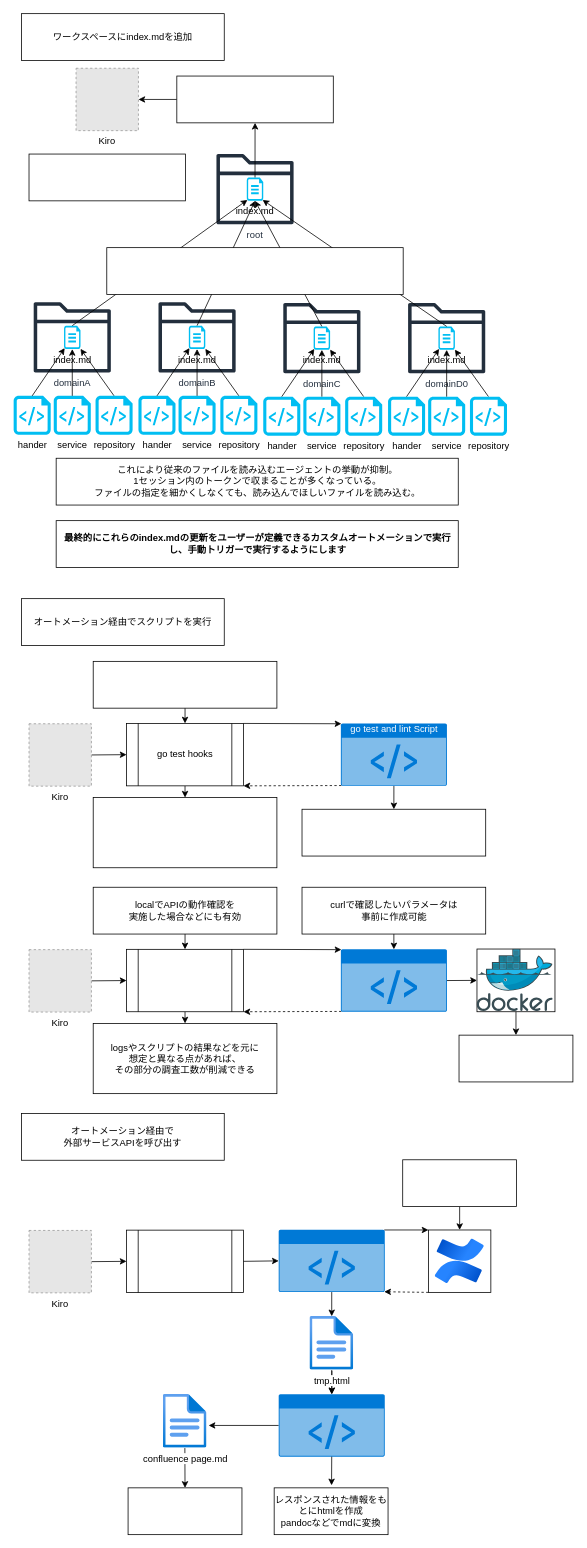
This 587x1548 diagram has some shape labels left out. Grey dashed boxes stand in for pictures. The box of each missing label's shape, as (x1, y1, x2, y2) in pixels:
convert Confluence to md hooks: (126, 1229, 244, 1293)
curl exec hooks: (126, 949, 244, 1012)
curl exec Script: (340, 949, 447, 1011)
get confluence page Script: (278, 1229, 384, 1292)
html to md Script: (278, 1394, 384, 1456)
KiroはAWSが提供するIDE型AIエージェントです。: (28, 153, 185, 201)
logsなどでコンテナ内の エラーを取得する: (458, 1034, 573, 1082)
rootディレクトリのindexをルールとして常時適用する: (176, 75, 333, 123)
Scriptの実行過程や結果は 標準出力かファイルに出力する: (301, 808, 486, 856)
Scriptの詳細や、引数、結果の要約を 定義して 手動で実行できるようにする: (92, 661, 277, 708)
ページIDやワークスペースキーなどで 情報を取得: (402, 1159, 517, 1207)
各ドメインで詳細なURIを記載したindex.mdを追加する: (106, 247, 403, 294)
基本的に外部向けgetエンドポイントが存在していれば、md化が可能: (127, 1487, 242, 1535)
標準出力やファイルの内容を閲覧、要約し ユーザーがわかりやすい形で整理される （失敗したテストケース のみ出力など）: (92, 797, 277, 868)
